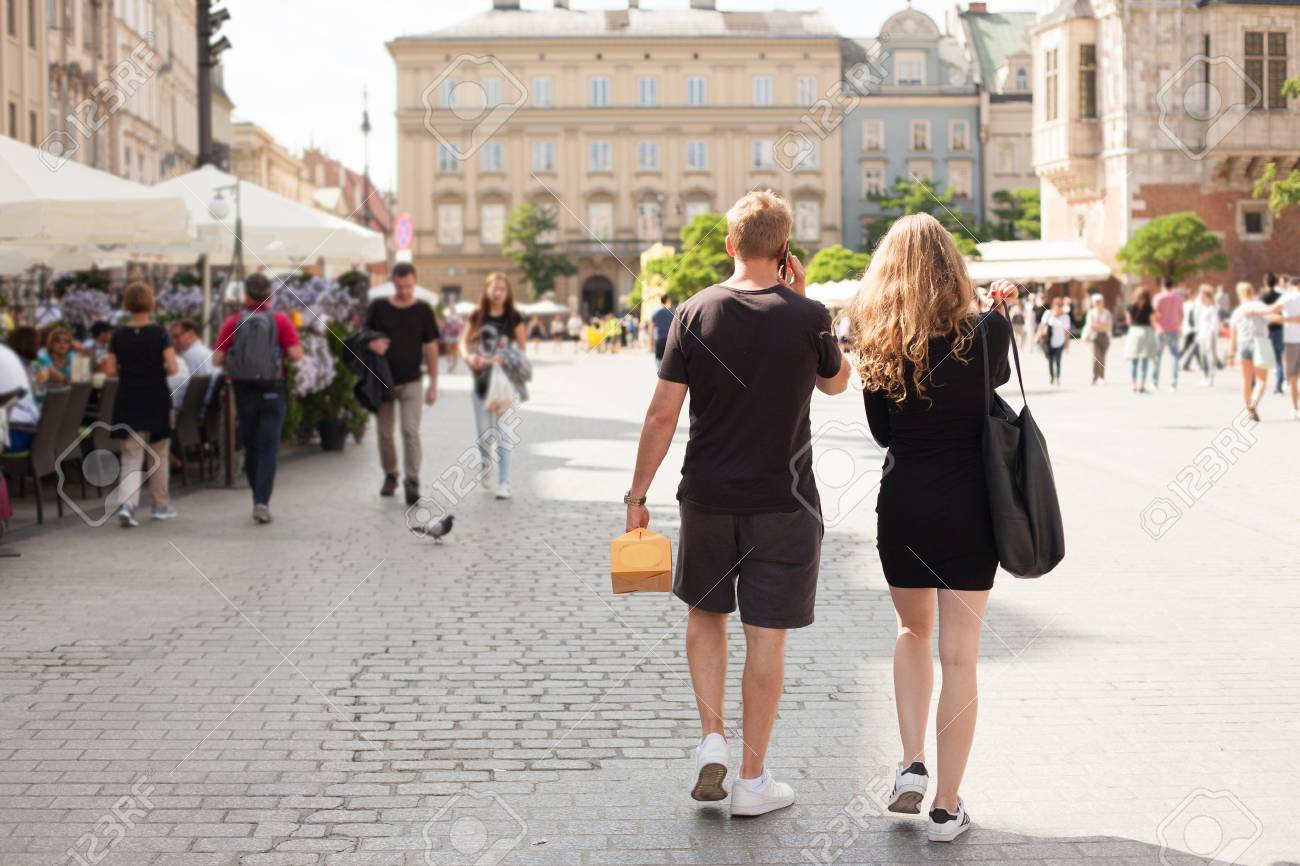person: (604, 189, 851, 831), (852, 202, 1071, 846), (212, 274, 307, 531), (100, 281, 191, 530), (359, 259, 446, 514), (455, 270, 539, 516), (1224, 280, 1282, 427), (1150, 276, 1189, 394), (1124, 282, 1159, 396), (1079, 289, 1117, 384), (1037, 294, 1074, 386)
